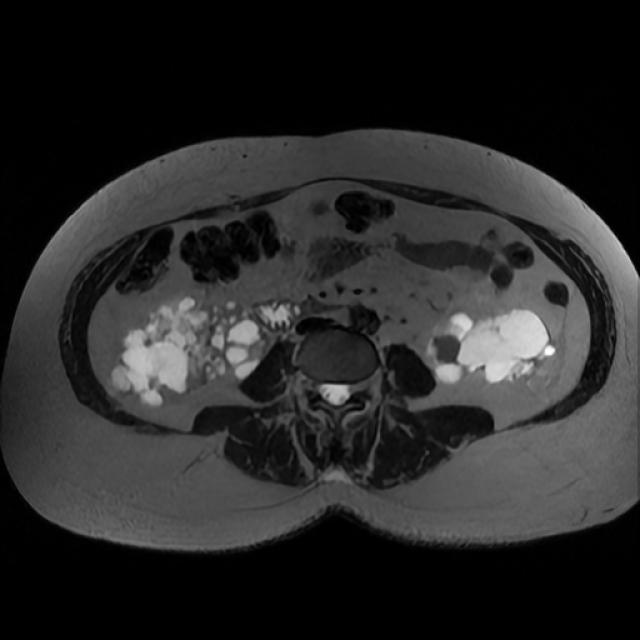sag: (110, 295, 268, 410)
sol: (427, 308, 558, 386)
